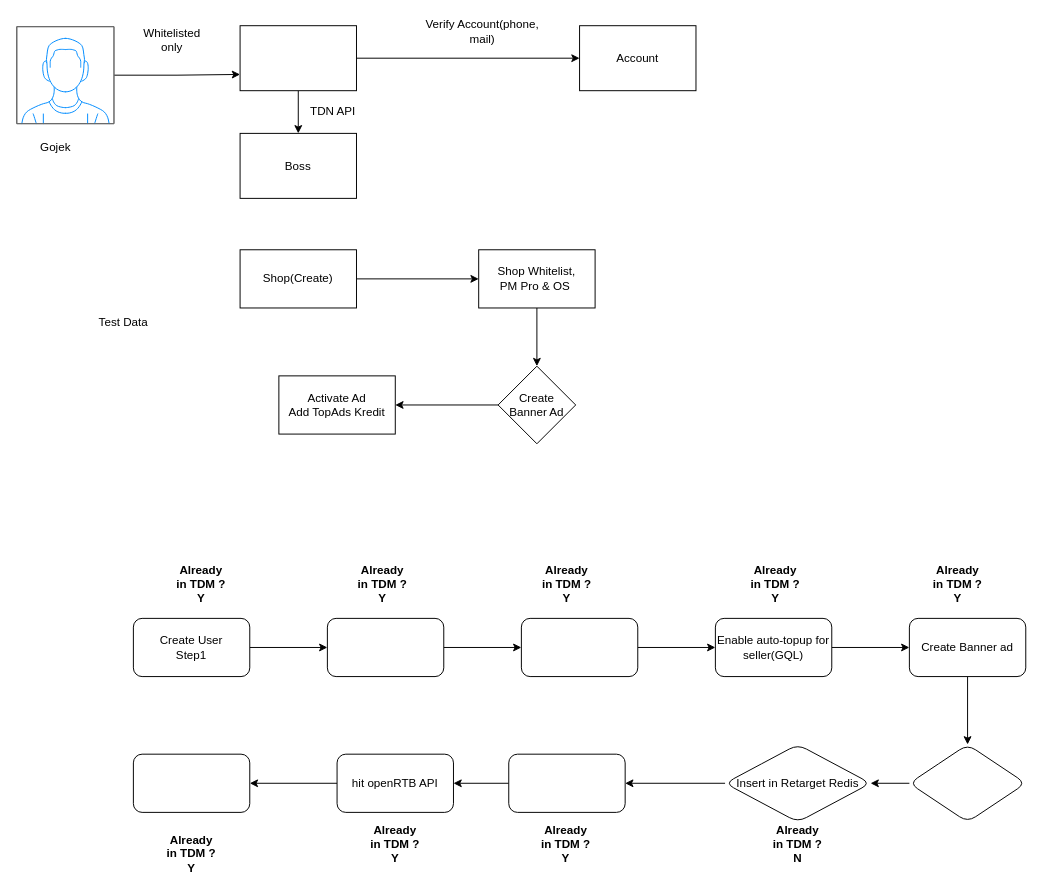
This 1043x891 diagram has some shape labels left out. The shapes that lost their labels are listed below. From the top down, each one's centre as x and y in pixels, then its label:
(297,58): Adroit(openRTB)
(385,647): Create Seller Step2
(579,647): Whitelist Seller
(191,782): Delete Ad
(566,782): Hit TDN API to fetch Ad
(967,783): Wait until ads persisted in ES
